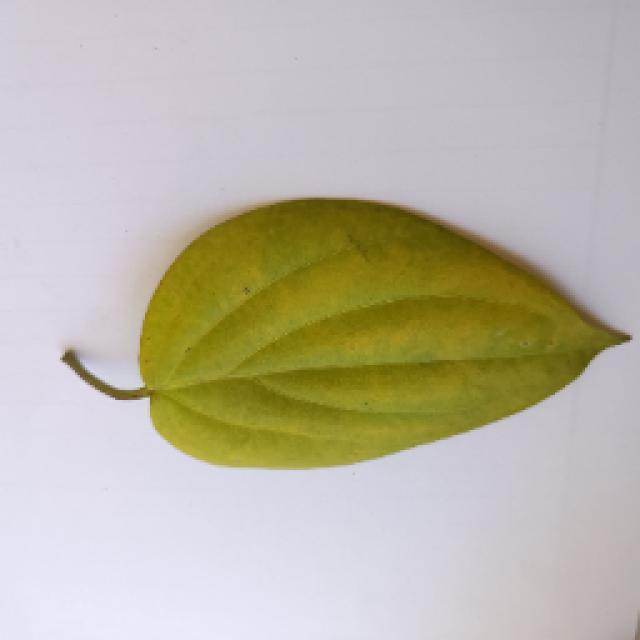slow-decline: (42, 185, 630, 615)
